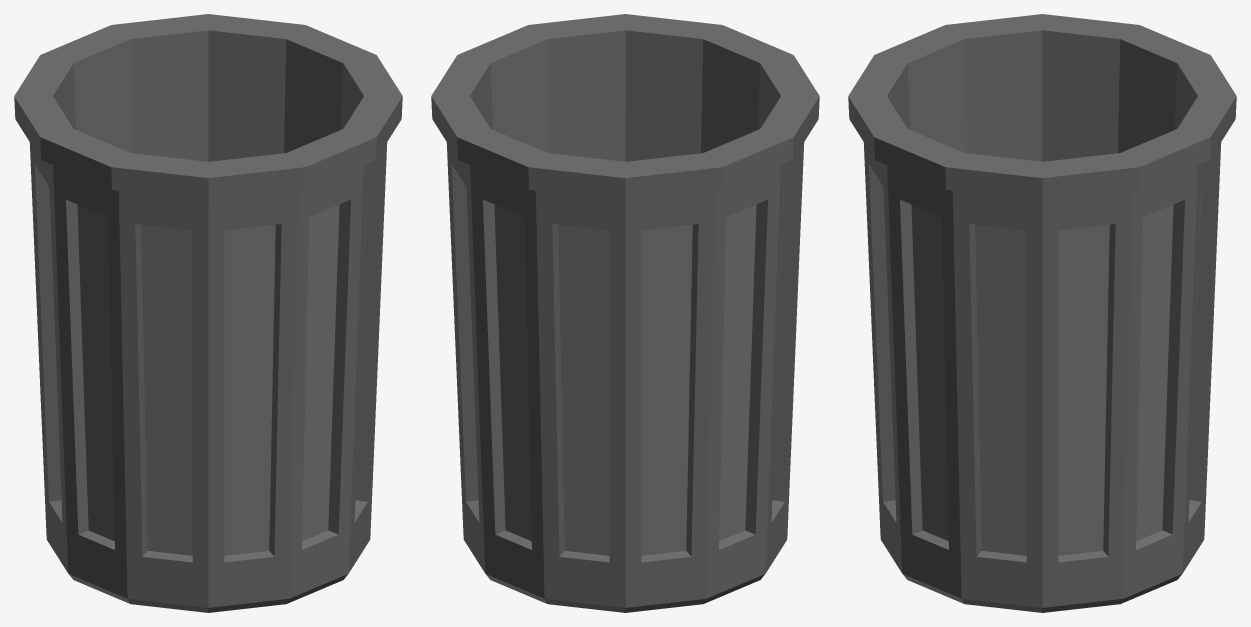
Rendered from Trash_01.fbx.
The picture shows the model from 3 angles, left to right: view 1: azimuth 30°, elevation 25°; view 2: azimuth 150°, elevation 25°; view 3: azimuth 270°, elevation 25°; orthographic projection.
Visible parts, largest first — view 1: Trash_01; view 2: Trash_01; view 3: Trash_01.
Boxes of the visible parts, left/top/right/bottom form: Trash_01: left=14, top=14, right=402, bottom=612; Trash_01: left=431, top=14, right=819, bottom=612; Trash_01: left=848, top=14, right=1236, bottom=612.
Size of the model in its own units: 64.46 by 82.57 by 64.46.
